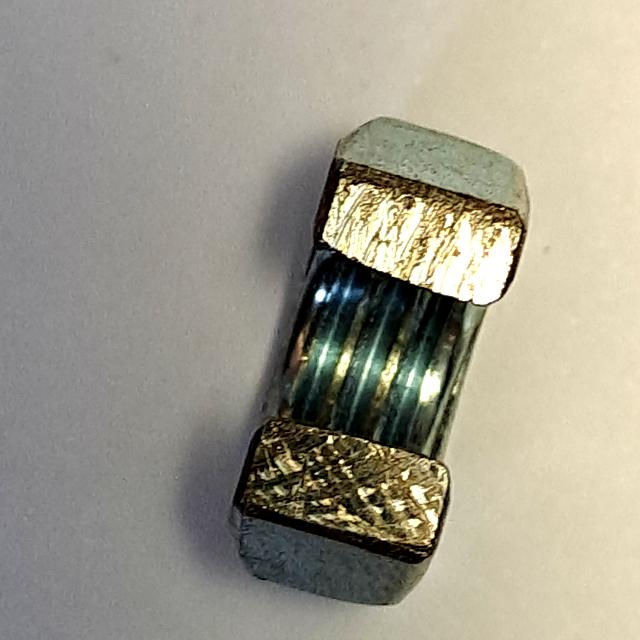Side-Fracture: (211, 107, 538, 617)
